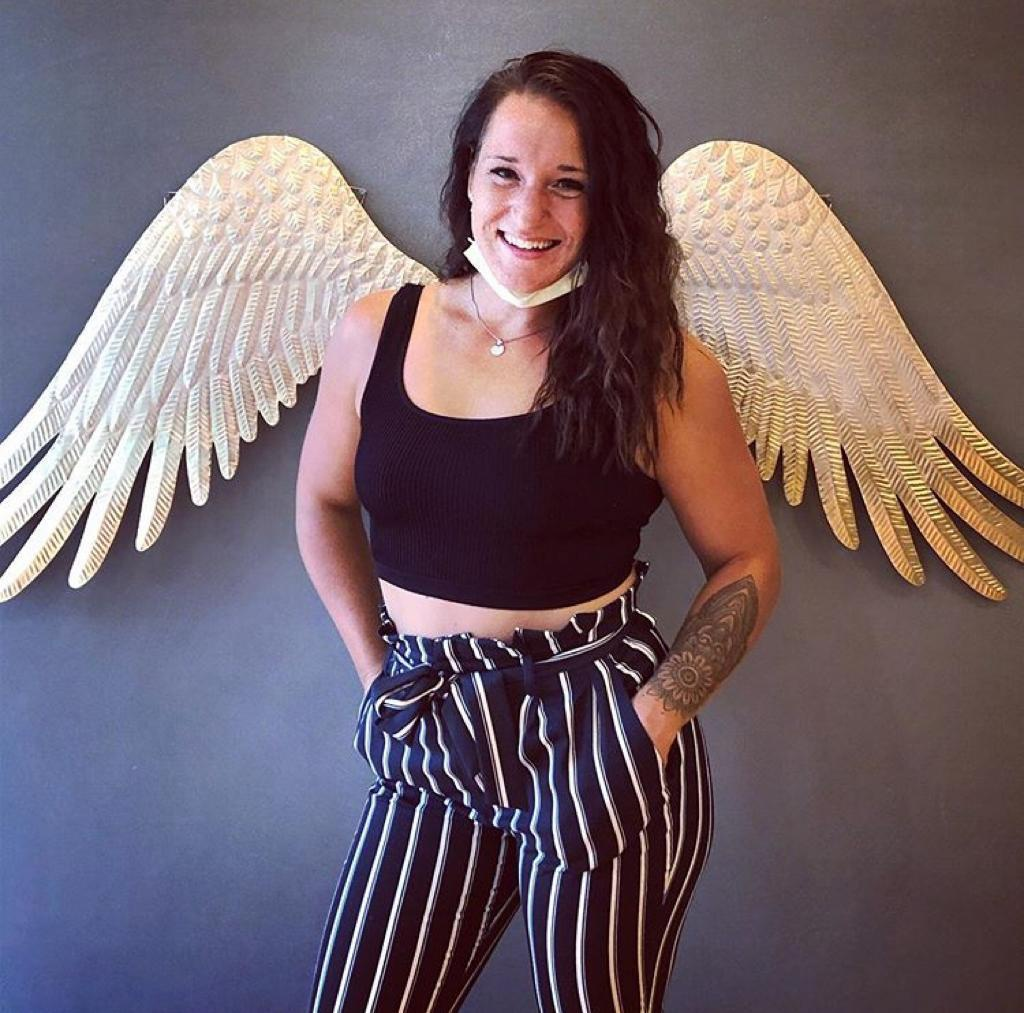mouth: (495, 231, 558, 258)
nose: (507, 208, 547, 230)
